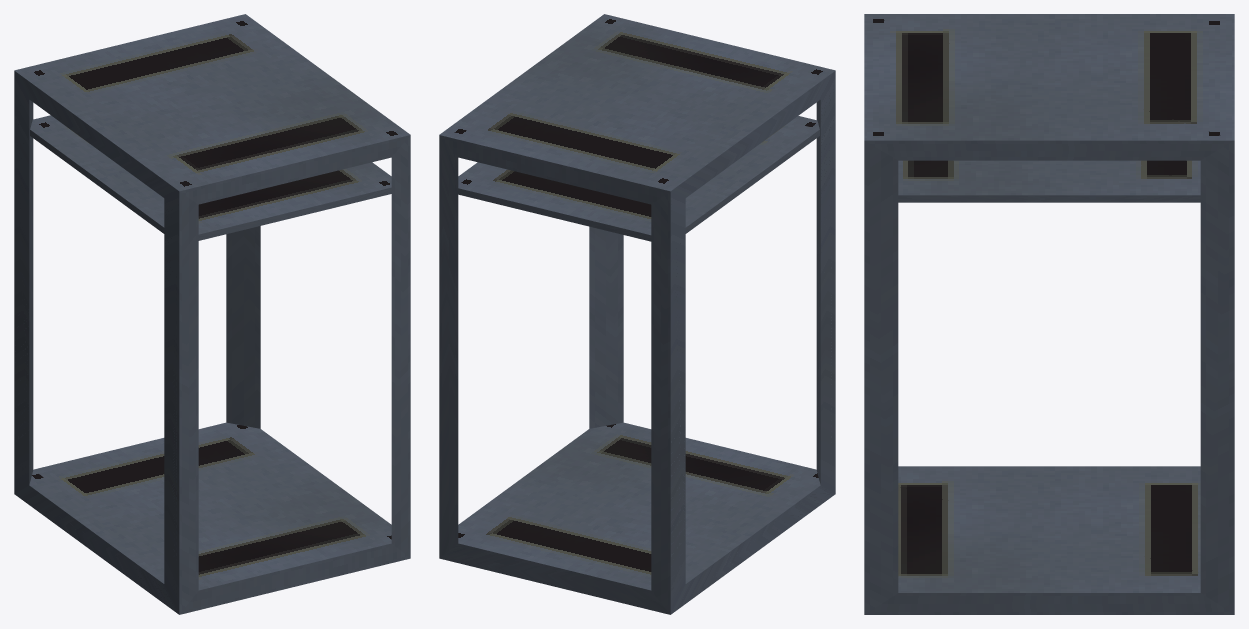
File: serverrack2-OLD.fbx
3 renders of one model, left to right at view 1: azimuth 30°, elevation 25°; view 2: azimuth 150°, elevation 25°; view 3: azimuth 270°, elevation 25°, orthographic. The views are drawn at different scales.
Parts seen in each view (by area): view 1: rack02; view 2: rack02; view 3: rack02.
Part boxes in pixels (box(x1,y1,x2,y2)): rack02: box(14, 14, 410, 614); rack02: box(439, 14, 835, 614); rack02: box(864, 14, 1234, 614).
Size of the model in its own units: 122 by 213 by 151.
